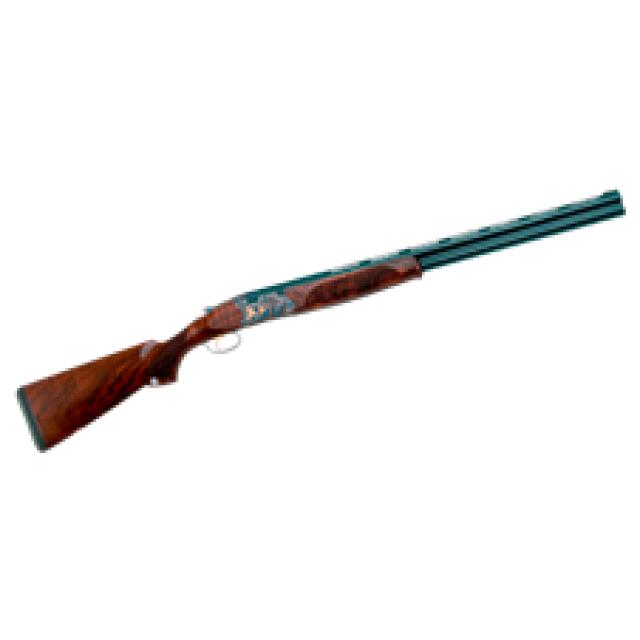rifle: (12, 173, 632, 471)
